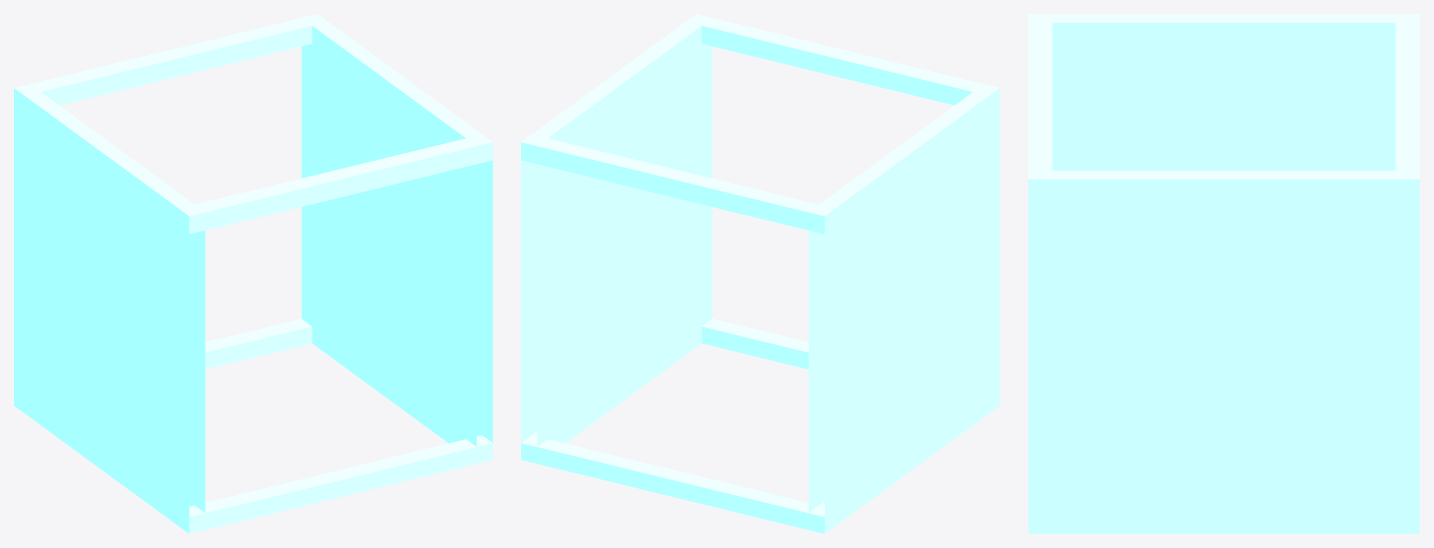
The model's file is holeCube.fbx.
3 renders of one model, left to right at view 1: azimuth 30°, elevation 25°; view 2: azimuth 150°, elevation 25°; view 3: azimuth 270°, elevation 25°, orthographic. The views are drawn at different scales.
Visible parts, largest first — view 1: Cube; view 2: Cube; view 3: Cube.
Part boxes in pixels (x1=…): Cube: x1=14, y1=14, x2=492, y2=533; Cube: x1=521, y1=14, x2=999, y2=533; Cube: x1=1028, y1=14, x2=1419, y2=533.
Size of the model in its own units: 2 by 2 by 2.
